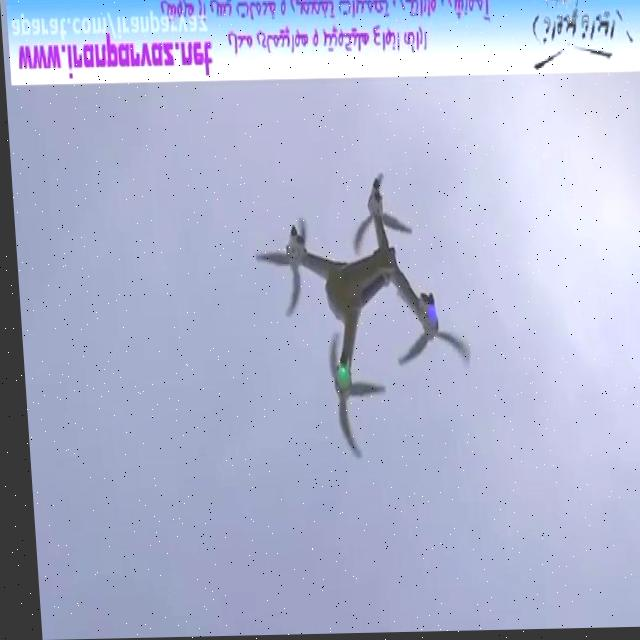drone: (244, 172, 474, 470)
